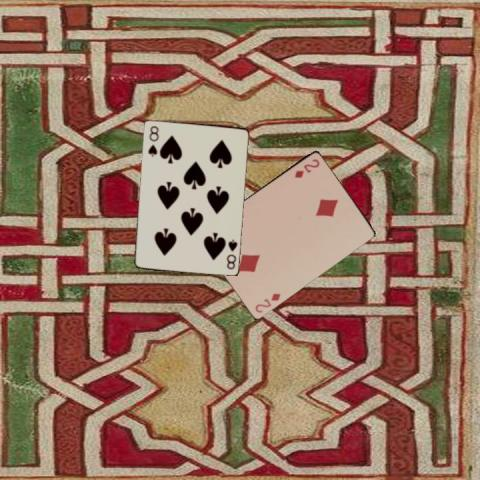2d: (292, 155, 322, 180), (252, 290, 282, 314)
8s: (223, 236, 239, 271), (146, 123, 160, 158)
